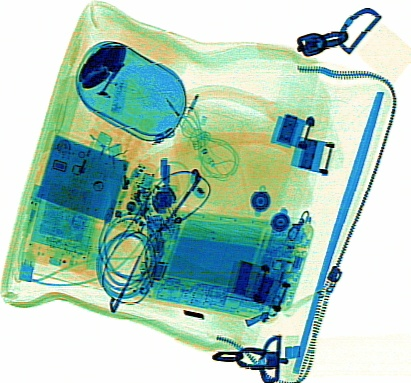lighter: (57, 124, 112, 214), (104, 140, 137, 230)
